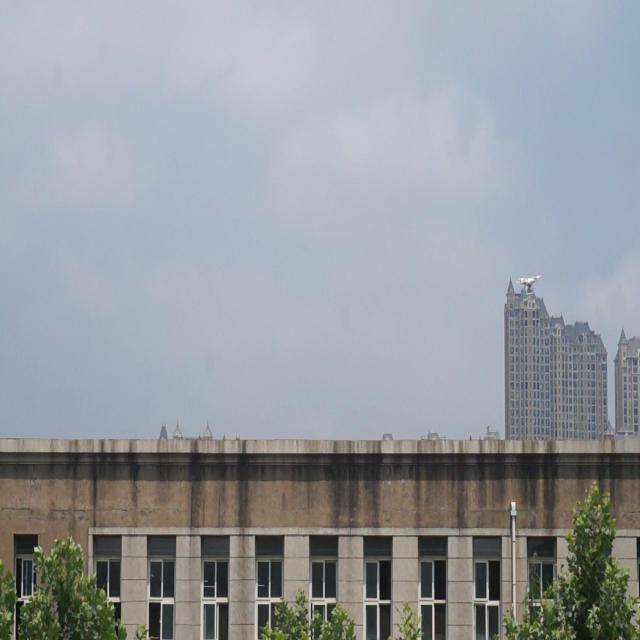drone: (514, 273, 542, 301)
